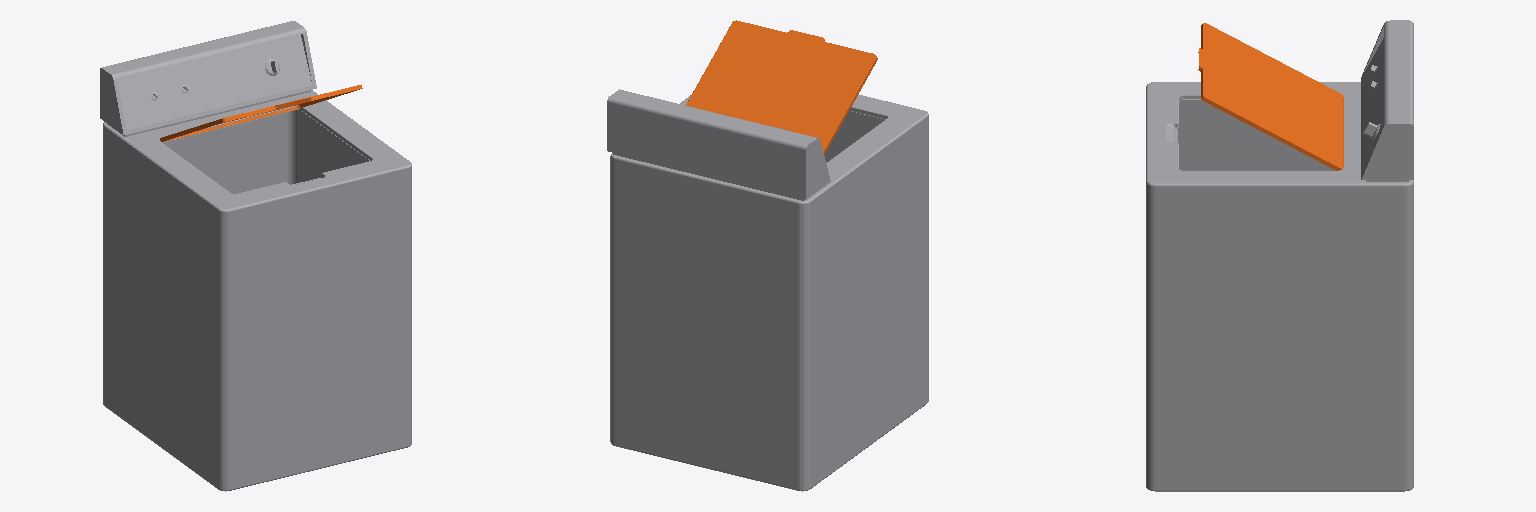
URDF robot description (washer_103776):
<?xml version="1.0"?>
<robot name="washer_103776">
  <!-- Meshes come from the dataset *_rotate exports, which share the joint frame. -->
  <link name="base_link">
    <visual>
      <origin xyz="0 0 0" rpy="0 0 0"/>
      <geometry>
        <mesh filename="meshes/washer_103776_base.obj"/>
      </geometry>
      <material name="steel_grey">
        <color rgba="0.70 0.70 0.72 1.0"/>
      </material>
    </visual>
    <collision>
      <origin xyz="0 0 0" rpy="0 0 0"/>
      <geometry>
        <mesh filename="meshes/washer_103776_base.obj"/>
      </geometry>
    </collision>
    <inertial>
      <origin xyz="-0.076111118 0.179864055 0.588812124" rpy="0 0 0"/>
      <mass value="0.086121108"/>
      <inertia ixx="0.022854012" ixy="0.000000000" ixz="0.000000000" iyy="0.021673923" iyz="0.000000000" izz="0.012654504"/>
    </inertial>
  </link>

  <link name="moving_link">
    <visual>
      <origin xyz="0 0 0" rpy="0 0 0"/>
      <geometry>
        <mesh filename="meshes/washer_103776_moving.obj"/>
      </geometry>
      <material name="handle_orange">
        <color rgba="0.93 0.47 0.16 1.0"/>
      </material>
    </visual>
    <collision>
      <origin xyz="0 0 0" rpy="0 0 0"/>
      <geometry>
        <mesh filename="meshes/washer_103776_moving.obj"/>
      </geometry>
    </collision>
    <inertial>
      <origin xyz="0.008168793 -0.401396948 0.239962969" rpy="0 0 0"/>
      <mass value="0.013878892"/>
      <inertia ixx="0.000447000" ixy="0.000000000" ixz="0.000000000" iyy="0.000605883" iyz="0.000000000" izz="0.000814401"/>
    </inertial>
  </link>

  <joint name="scissor_hinge" type="revolute">
    <origin xyz="0.000000000 0.199498576 0.535525318" rpy="0 0 0"/>
    <parent link="base_link"/>
    <child link="moving_link"/>
    <axis xyz="1.000000000 0.000000000 0.000000000"/>
    <limit lower="-0.523598776" upper="0.000000000" effort="5.0" velocity="4.0"/>
    <dynamics damping="0.05" friction="0.02"/>
  </joint>
</robot>

--- What the picture shows (computed from the rendered views, not written in the file) ---
Views: 3 orthographic renders of the robot side by side, from view 1: azimuth 30°, elevation 25°; view 2: azimuth 150°, elevation 25°; view 3: azimuth 270°, elevation 25°.
Model washer_103776 with 2 links and 1 joints (1 revolute), rooted at base_link, posed all joints at 0.
Visible links, largest first — view 1: base_link, moving_link; view 2: base_link, moving_link; view 3: base_link, moving_link.
Link boxes in pixels (<box>): base_link: <box>100,21,411,491</box>; moving_link: <box>160,85,362,141</box>; base_link: <box>607,89,928,491</box>; moving_link: <box>686,20,877,154</box>; base_link: <box>1146,20,1413,491</box>; moving_link: <box>1198,23,1343,170</box>.
Bounding box of the posed robot: 0.8941 × 0.9818 × 1.55 m (x, y, z).
Meshes: 2 distinct files referenced, 2 mesh visuals loaded (2 OBJ).
